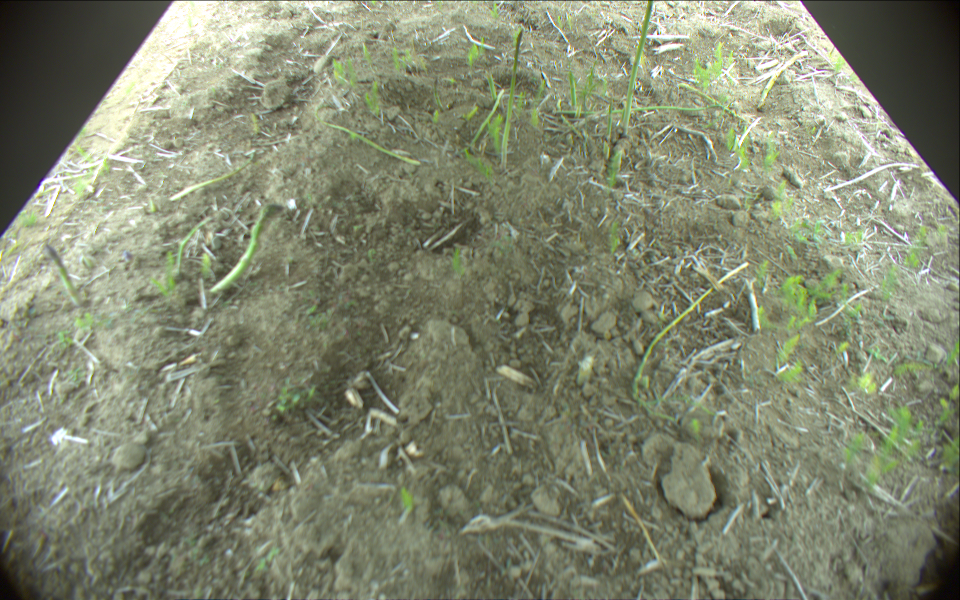aspa: (629, 261, 749, 419), (213, 209, 268, 293), (169, 151, 255, 201), (622, 1, 654, 135), (321, 120, 418, 163), (500, 27, 525, 169), (680, 81, 754, 127), (39, 234, 82, 306), (760, 52, 808, 108), (176, 212, 212, 275), (552, 104, 726, 116), (470, 90, 504, 151), (607, 89, 615, 142), (567, 69, 577, 106), (488, 70, 496, 103)
